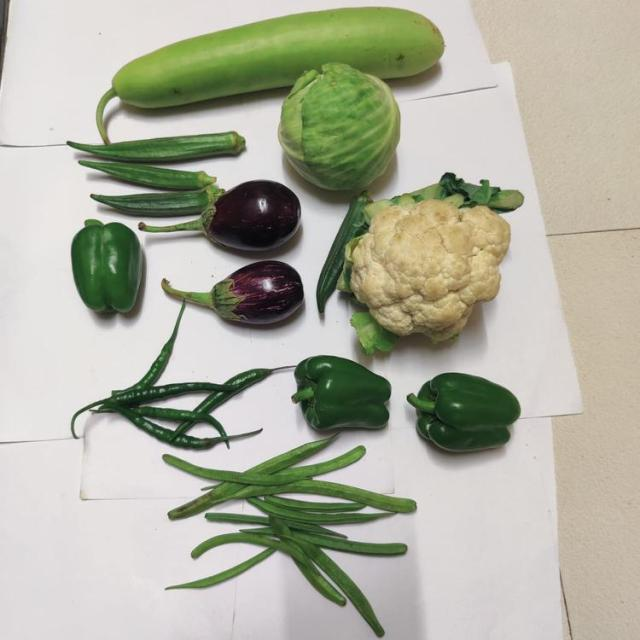Organik: (166, 456, 398, 602), (349, 182, 519, 353), (105, 7, 447, 82), (276, 64, 404, 185), (148, 178, 301, 252), (158, 258, 306, 328), (98, 383, 260, 446), (411, 370, 521, 451), (292, 356, 393, 434), (71, 218, 144, 316), (68, 134, 250, 166), (93, 161, 216, 193), (94, 190, 216, 212)
